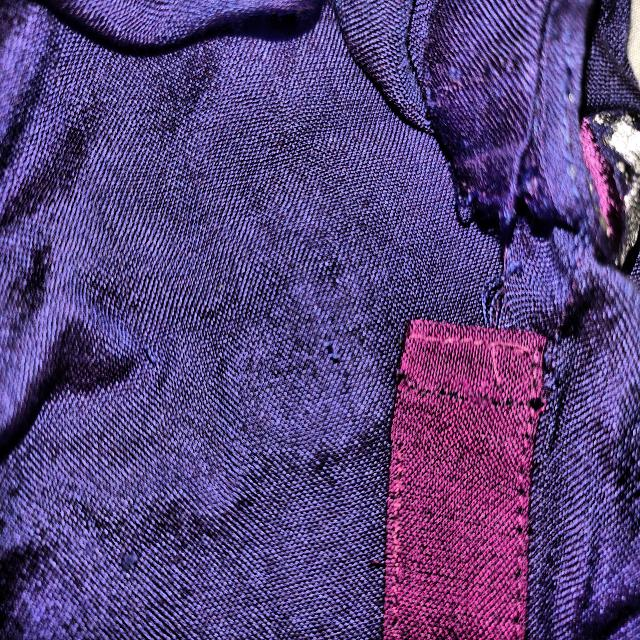seam: (407, 82, 580, 274)
